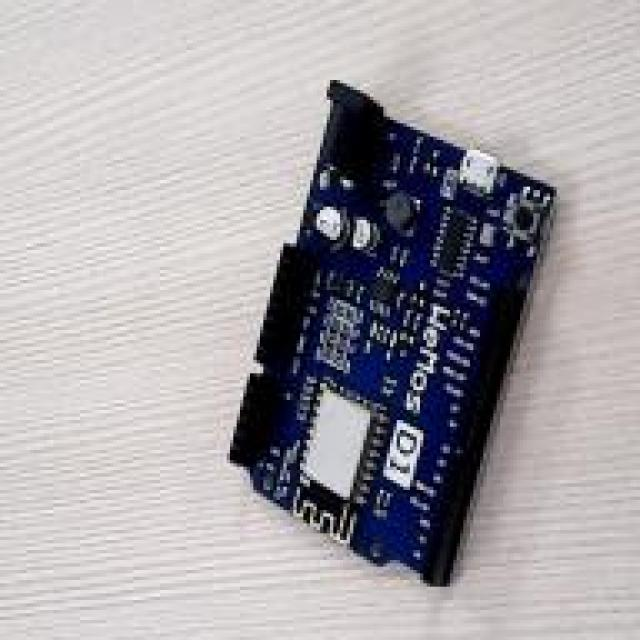Wemos: (231, 81, 554, 584)
